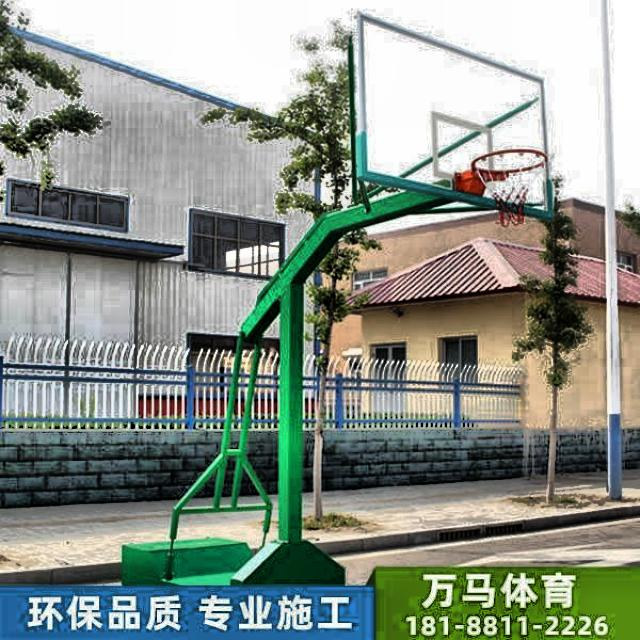rim: (474, 147, 547, 225)
